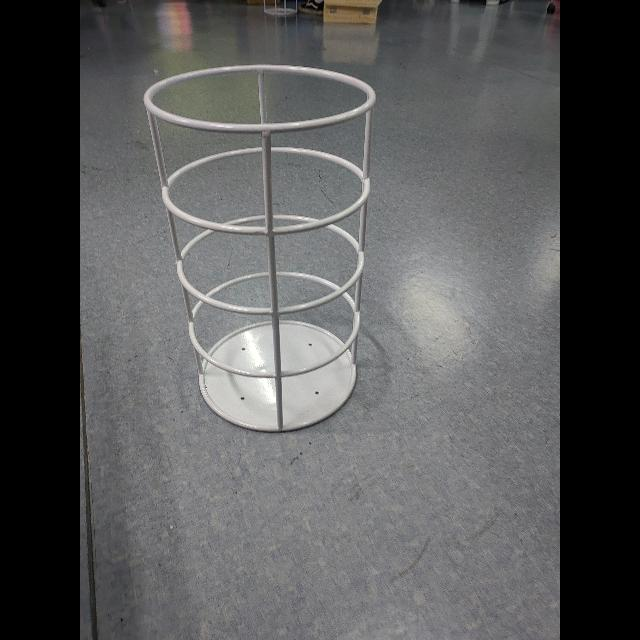S: (139, 60, 381, 438)
